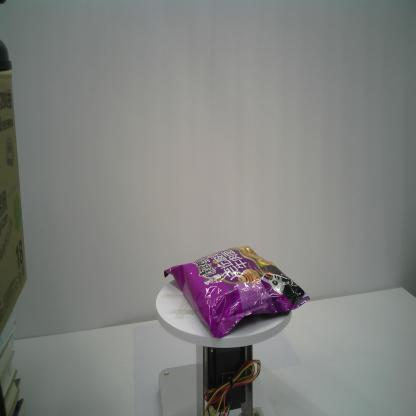Instant Noodles: (164, 243, 310, 338)
